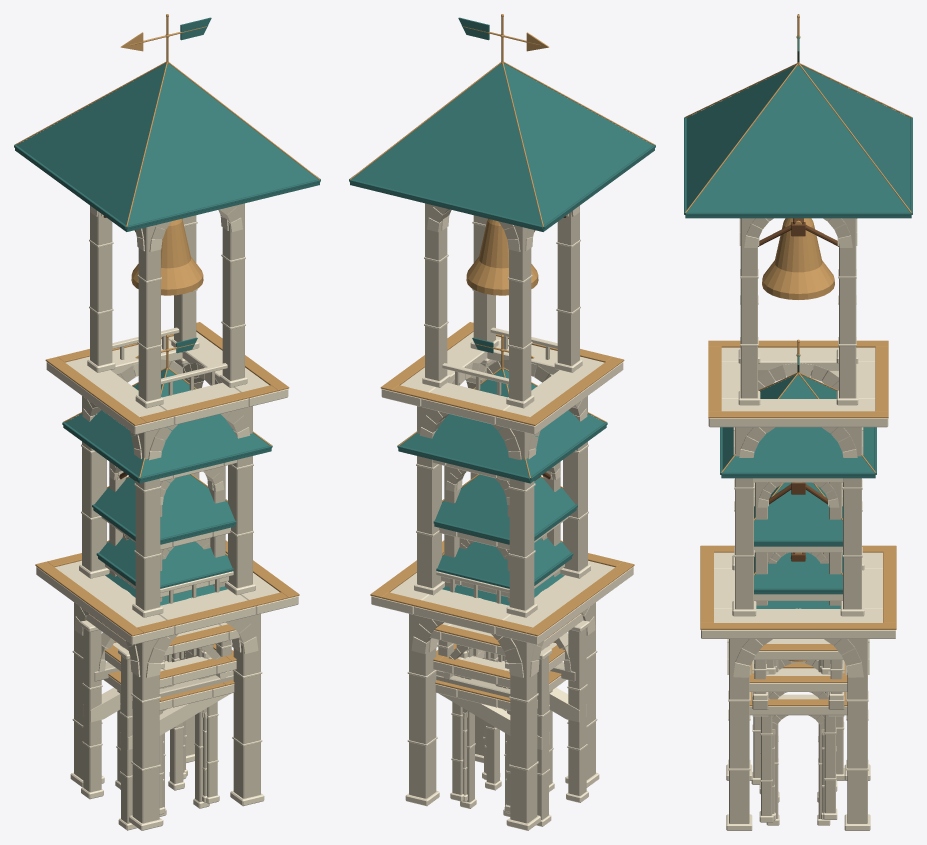
The model's file is world03-bell-towers-v1.glb.
3 renders of one model, left to right at view 1: azimuth 30°, elevation 25°; view 2: azimuth 150°, elevation 25°; view 3: azimuth 270°, elevation 25°, orthographic.
Visible parts, largest first — view 1: tower-0 Warm wind limestone, tower-0 Quiet teal metal roof, tower-0 Pale dressed stone, tower-0 Aged copper bells and vane, tower-1 Quiet teal metal roof, tower-1 Warm wind limestone, tower-2 Quiet teal metal roof, tower-1 Pale dressed stone, tower-3 Quiet teal metal roof, tower-2 Pale dressed stone, tower-2 Warm wind limestone, tower-4 Warm wind limestone (+4 smaller); view 2: tower-0 Warm wind limestone, tower-0 Quiet teal metal roof, tower-0 Pale dressed stone, tower-0 Aged copper bells and vane, tower-1 Quiet teal metal roof, tower-1 Warm wind limestone, tower-2 Quiet teal metal roof, tower-1 Pale dressed stone, tower-3 Quiet teal metal roof, tower-2 Pale dressed stone, tower-2 Warm wind limestone, tower-4 Warm wind limestone (+4 smaller); view 3: tower-0 Quiet teal metal roof, tower-0 Warm wind limestone, tower-0 Pale dressed stone, tower-0 Aged copper bells and vane, tower-1 Quiet teal metal roof, tower-2 Quiet teal metal roof, tower-1 Warm wind limestone, tower-2 Warm wind limestone, tower-3 Quiet teal metal roof, tower-2 Pale dressed stone, tower-1 Pale dressed stone, tower-3 Pale dressed stone (+8 smaller).
Boxes of the visible parts, box(x1,y1,x2,y2) form: tower-0 Warm wind limestone: box(74, 203, 260, 823); tower-0 Quiet teal metal roof: box(14, 17, 320, 231); tower-0 Pale dressed stone: box(36, 206, 298, 830); tower-0 Aged copper bells and vane: box(15, 14, 320, 636); tower-1 Quiet teal metal roof: box(62, 337, 272, 483); tower-1 Warm wind limestone: box(83, 461, 233, 823); tower-2 Quiet teal metal roof: box(92, 474, 236, 544); tower-1 Pale dressed stone: box(80, 460, 240, 830); tower-3 Quiet teal metal roof: box(96, 538, 233, 588); tower-2 Pale dressed stone: box(101, 517, 236, 814); tower-2 Warm wind limestone: box(117, 534, 217, 807); tower-4 Warm wind limestone: box(163, 648, 202, 807); tower-0 Warm wind limestone: box(409, 203, 595, 823); tower-0 Quiet teal metal roof: box(349, 17, 655, 231); tower-0 Pale dressed stone: box(371, 206, 633, 830); tower-0 Aged copper bells and vane: box(349, 14, 654, 636); tower-1 Quiet teal metal roof: box(397, 337, 607, 483); tower-1 Warm wind limestone: box(436, 461, 586, 819); tower-2 Quiet teal metal roof: box(433, 474, 577, 544); tower-1 Pale dressed stone: box(429, 460, 589, 826); tower-3 Quiet teal metal roof: box(436, 538, 573, 588); tower-2 Pale dressed stone: box(433, 517, 568, 812); tower-2 Warm wind limestone: box(452, 534, 552, 805); tower-4 Warm wind limestone: box(466, 648, 506, 805); tower-0 Quiet teal metal roof: box(684, 36, 912, 218); tower-0 Warm wind limestone: box(727, 218, 869, 823); tower-0 Pale dressed stone: box(701, 232, 895, 830); tower-0 Aged copper bells and vane: box(685, 14, 911, 629); tower-1 Quiet teal metal roof: box(720, 354, 876, 478); tower-2 Quiet teal metal roof: box(754, 482, 842, 546); tower-1 Warm wind limestone: box(752, 482, 844, 777); tower-2 Warm wind limestone: box(761, 552, 835, 815); tower-3 Quiet teal metal roof: box(754, 552, 842, 594); tower-2 Pale dressed stone: box(749, 546, 847, 822); tower-1 Pale dressed stone: box(751, 478, 844, 784); tower-3 Pale dressed stone: box(749, 594, 847, 820).
Size of the model in its own units: 8.29 by 31.89 by 8.29.
